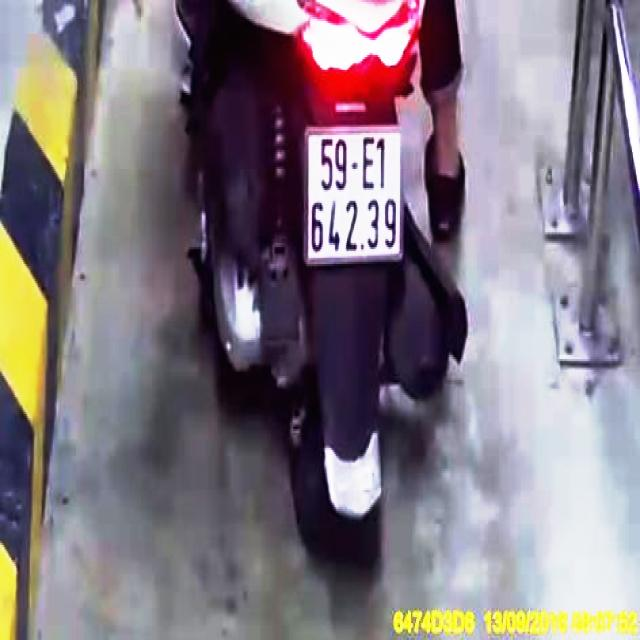license_plate: (307, 132, 401, 259)
